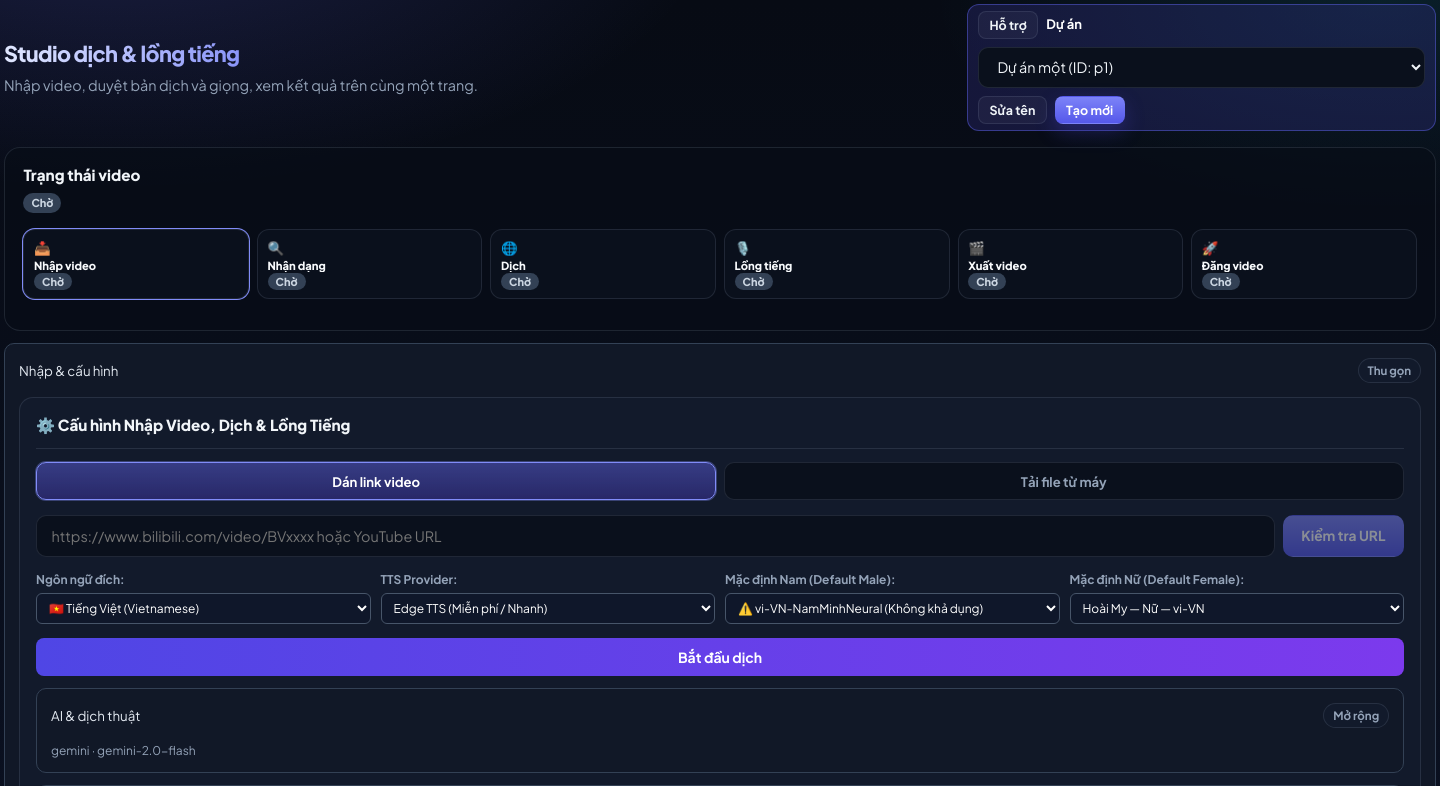
Test: starts with a single preflight action and closed advanced configuration and support
The image size is (1440, 786).
Click the button "Bắt đầu dịch": point(720, 657) [36,638,1404,676]
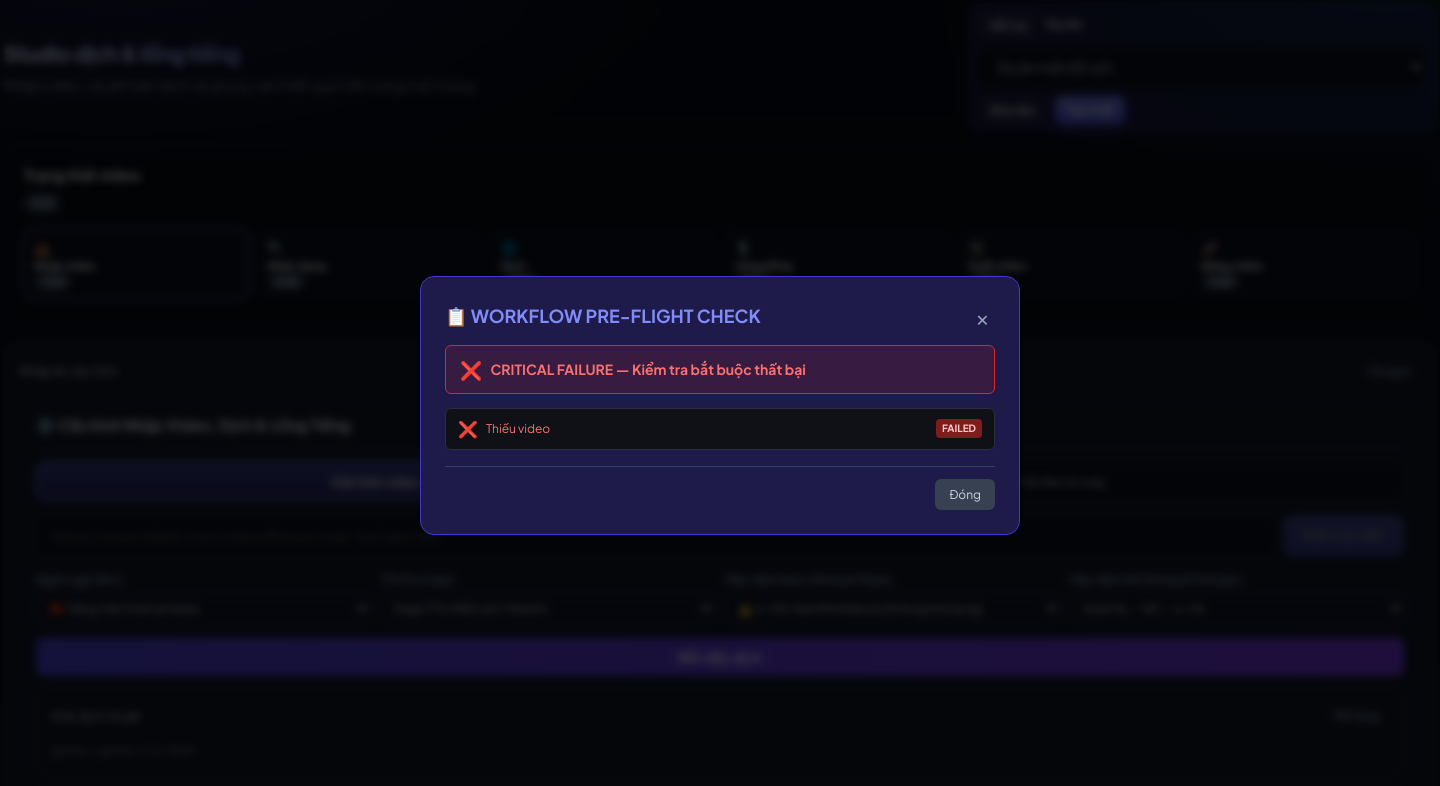
Expected: the text "Thiếu video" is shown, [486,420,550,438]
